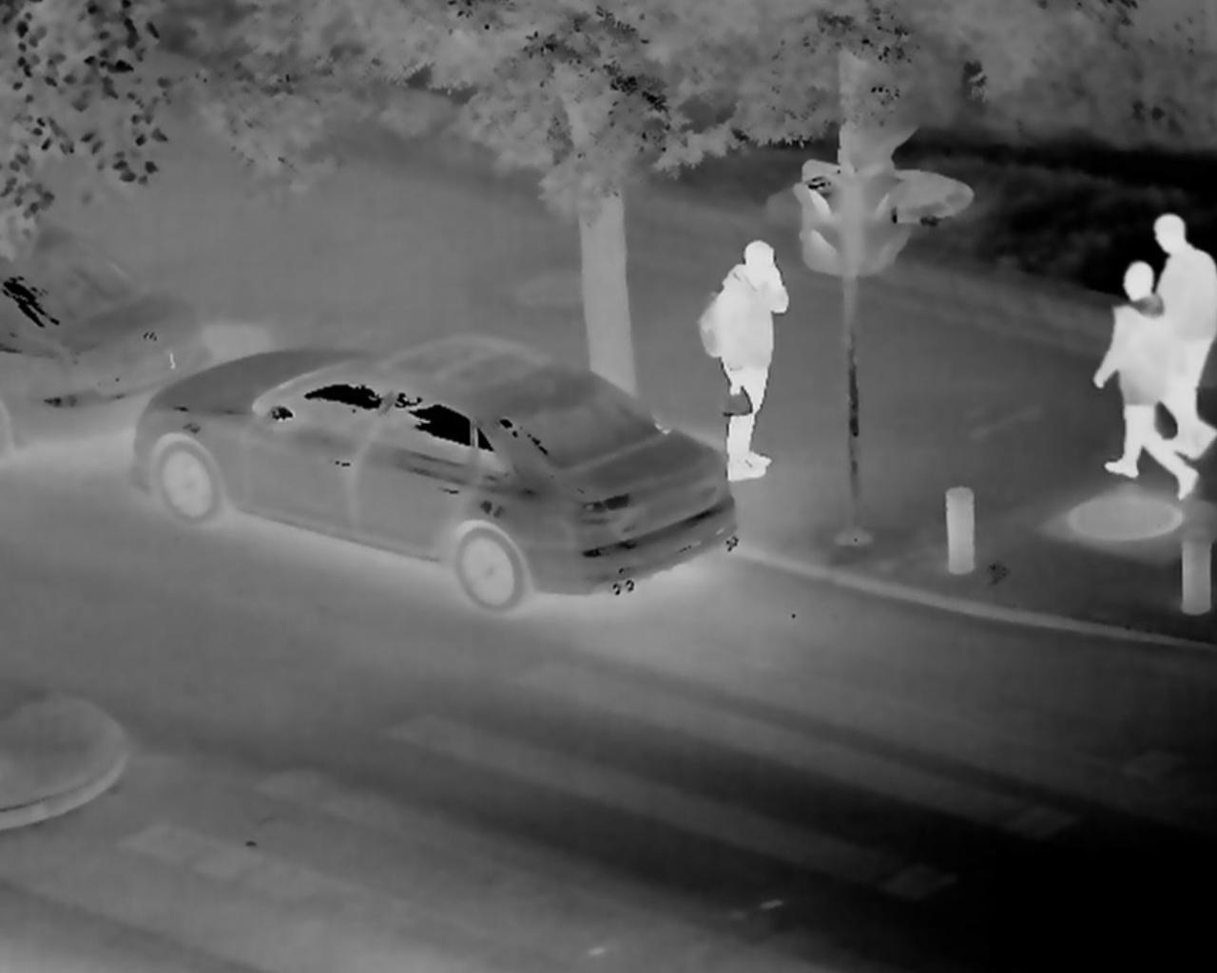person: (1091, 259, 1186, 507), (701, 238, 792, 485), (1152, 209, 1217, 463)
